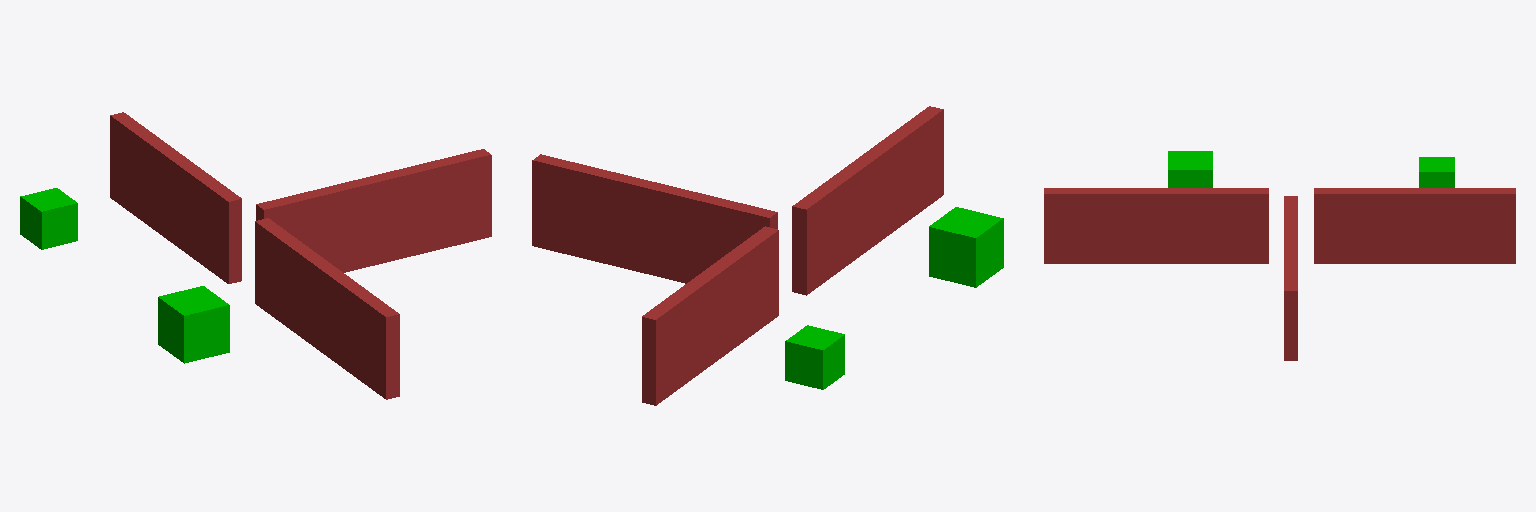
robot.urdf — maze1:
<robot name="maze1">
    <link name="base_link"/>

    <link name="table">
      <visual>
        <geometry>
          <mesh filename="[local-path]/rb_ws/robowflex/robowflex_dart/include/io/envs/maze1/meshes/maze1.dae" scale=" 0.50 0.50 0.50"/>
        </geometry>
        <origin rpy="0 0 0" xyz="0 0 0"/>

<material name="">
  <color rgba="0.87450980392 0.87450980392 0.87058823529 1.0"/>
      </material>
      </visual>
      <collision concave="yes" name="collision_mesh_2">
        <geometry>
          <mesh filename="[local-path]/rb_ws/robowflex/robowflex_dart/include/io/envs/maze1/meshes/maze1.dae" scale=" 0.50 0.50 0.50"/>
        </geometry>
        <origin rpy="0 0 0" xyz="0 0 0"/>       
       </collision>
    </link>

    <link name="link_0_joint_0">
      <visual>
        <geometry>
          <box size="0.1 0.1 0.1"/>
        </geometry>
        <origin rpy="0 0 0" xyz="0 0 0"/>
      <material name="">
          <color rgba="0.0 0.8 0.0 1.0"/>
      </material>
      </visual>
      <collision>
        <geometry>
          <box size="0.1 0.1 0.1"/>
        </geometry>
        <origin rpy="0 0 0" xyz="0 0 0"/>       
       </collision>
    </link>


    <link name="cube2">
      <visual>
        <geometry>
          <box size="0.08 0.08 0.08"/>
        </geometry>
        <origin rpy="0 0 0" xyz="0 0 0"/>
      <material name="">
          <color rgba="0.0 0.8 0.0 0.4"/>
      </material>
      </visual>
    </link>



     <link name="link_1_joint_0">
      <visual>
        <geometry>
          <box size="0.03 0.5 0.173"/>
        </geometry>
        <origin rpy="0 0 0" xyz="0.0 0.25 0"/>
        <material name="">
          <color rgba="0.6901 0.2509 0.2509 1.0"/>
      </material>
      </visual>
      <collision>
        <geometry>  
          <box size="0.03 0.5 0.173"/>
        </geometry>
        <origin rpy="0 0 0" xyz="0.0 0.25 0"/>       
       </collision>
    </link>

     <link name="link_2_joint_0">
      <visual>
      <origin rpy="0 0 0" xyz="-0.225 0 0"/>
        <geometry>
          <box size="0.5 0.03 0.173"/>
        </geometry>
             <material name="">
          <color rgba="0.6901 0.2509 0.2509 1.0"/>
      </material>
      </visual>
      <collision>       
        <geometry>  
          <box size="0.5 0.03 0.173"/>
        </geometry>
        <origin rpy="0 0 0" xyz="-0.225 0 0"/>
       </collision>
    </link>

     <link name="link_3_joint_0">
      <visual>
      <origin rpy="0 0 0" xyz="0 0.225 0"/>
        <geometry>
          <box size="0.03 0.45 0.173"/>
        </geometry>
             <material name="">
          <color rgba="0.6901 0.2509 0.2509 1.0"/>
      </material>
      </visual>
      <collision>       
        <geometry>  
          <box size="0.03 0.45 0.173"/>
        </geometry>
        <origin rpy="0 0 0" xyz="0 0.225 0"/>
       </collision>
    </link>


  <link name="cube_x"/>

<joint name="table_j" type="fixed">
    <origin rpy="0 0 0" xyz="0.75 -0.6 0.23"/>
    <parent link="base_link"/>
    <child link="table"/>
  </joint>



<joint name="goal" type="fixed">
    <origin rpy="0 0 0" xyz="0.5 -0.25 0.75"/>
    <parent link="base_link"/>
    <child link="cube2"/>
  </joint>


<joint name="link_0_joint_0" type="prismatic">
    <origin rpy="0 0 0" xyz="0.50 -0.8 0.75"/>
    <parent link="base_link"/>
    <child link="cube_x"/>
   <axis xyz="0 1 0"/>
  <limit lower="0.0" upper="0.65" effort="0.05" velocity="1.57"/>
  </joint>


<joint name="link_0_joint_1" type="prismatic">
    <origin rpy="0 0 0" xyz="0.0 0 0.0"/>
    <parent link="cube_x"/>
    <child link="link_0_joint_0"/>
   <axis xyz="1 0 0"/>
  <limit lower="-0.2" upper="0.7" effort="0.05" velocity="1.57"/>
  </joint>

  <joint name="link_1_joint_0" type="revolute">
      <origin rpy="0 0 0" xyz="0.75 -1.125 0.755"/>
      <parent link="base_link"/>
      <child link="link_1_joint_0"/>
      <axis xyz="0 0 1"/>
      <limit lower="-1.57" upper="1.57" effort="5" velocity="1.57"/>
  </joint>

  <joint name="link_2_joint_0" type="revolute">
      <origin rpy="0 0 0" xyz="1.25 -0.575 0.755"/>
      <parent link="base_link"/>
      <child link="link_2_joint_0"/>
      <axis xyz="0 0 1"/>
      <limit lower="-1.57" upper="1.57" effort="5" velocity="1.57"/>
  </joint>


  <joint name="link_3_joint_0" type="revolute">
      <origin rpy="0 0 0" xyz="0.75 -0.525 0.755"/>
      <parent link="base_link"/>
      <child link="link_3_joint_0"/>
      <axis xyz="0.0 0.0 1"/>
      <limit lower="-1.57" upper="1.57" effort="5" velocity="1.57"/>
  </joint>

</robot>

--- Facts derived from the render (not from the file) ---
3 views of the same robot in one strip: view 1: azimuth 30°, elevation 25°; view 2: azimuth 150°, elevation 25°; view 3: azimuth 270°, elevation 25° (orthographic).
Model maze1 with 8 links and 7 joints (3 revolute, 2 prismatic, 2 fixed), rooted at base_link, posed all joints at 0.
Visible links, largest first — view 1: link_2_joint_0, link_1_joint_0, link_3_joint_0, link_0_joint_0, cube2; view 2: link_2_joint_0, link_1_joint_0, link_3_joint_0, link_0_joint_0, cube2; view 3: link_1_joint_0, link_3_joint_0, link_2_joint_0, link_0_joint_0, cube2.
Boxes of the visible links, bbox=[...] form: link_2_joint_0: bbox=[256, 149, 491, 272]; link_1_joint_0: bbox=[255, 218, 399, 399]; link_3_joint_0: bbox=[110, 112, 241, 283]; link_0_joint_0: bbox=[158, 286, 229, 363]; cube2: bbox=[20, 188, 77, 249]; link_2_joint_0: bbox=[532, 154, 777, 283]; link_1_joint_0: bbox=[792, 106, 943, 295]; link_3_joint_0: bbox=[642, 226, 778, 405]; link_0_joint_0: bbox=[929, 207, 1003, 287]; cube2: bbox=[785, 325, 844, 389]; link_1_joint_0: bbox=[1044, 188, 1268, 263]; link_3_joint_0: bbox=[1314, 188, 1515, 263]; link_2_joint_0: bbox=[1284, 196, 1297, 360]; link_0_joint_0: bbox=[1168, 151, 1212, 187]; cube2: bbox=[1419, 157, 1454, 187].
Size in the robot's own frame: 0.825 by 1.05 by 0.173 metres.
Geometry: only primitive shapes (box / cylinder / sphere) drawn; not drawn: 1 mesh visual (reference in a form the renderer does not follow).